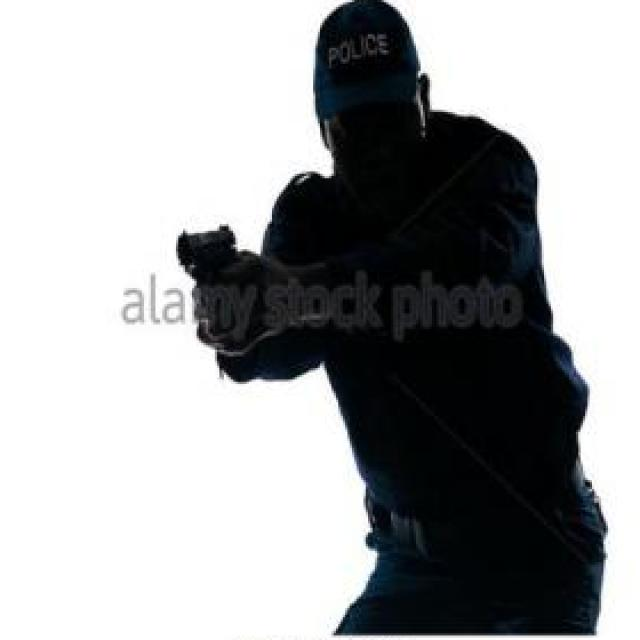pistol: (172, 217, 241, 313)
